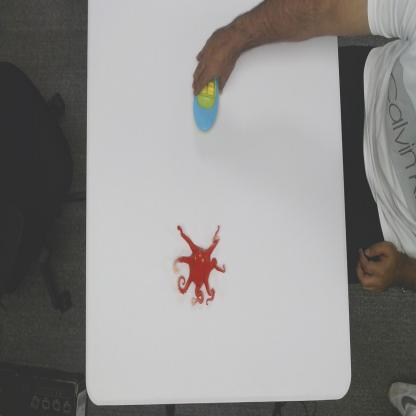Arm: (239, 0, 416, 49)
Boat: (192, 80, 221, 134)
Hand: (192, 22, 240, 98)
Octopus: (172, 223, 227, 308)
